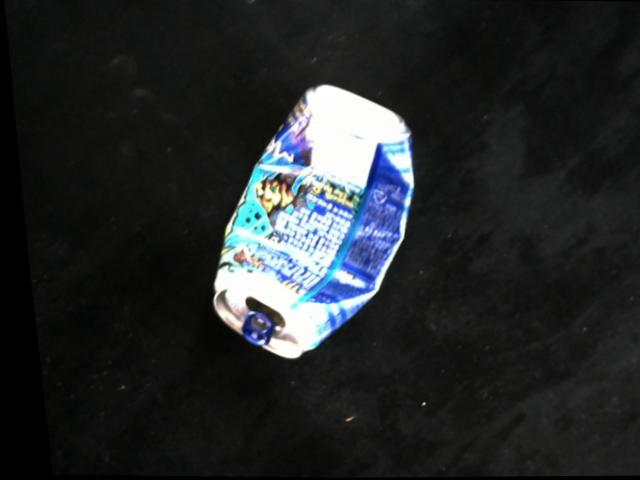can: (201, 82, 413, 359)
